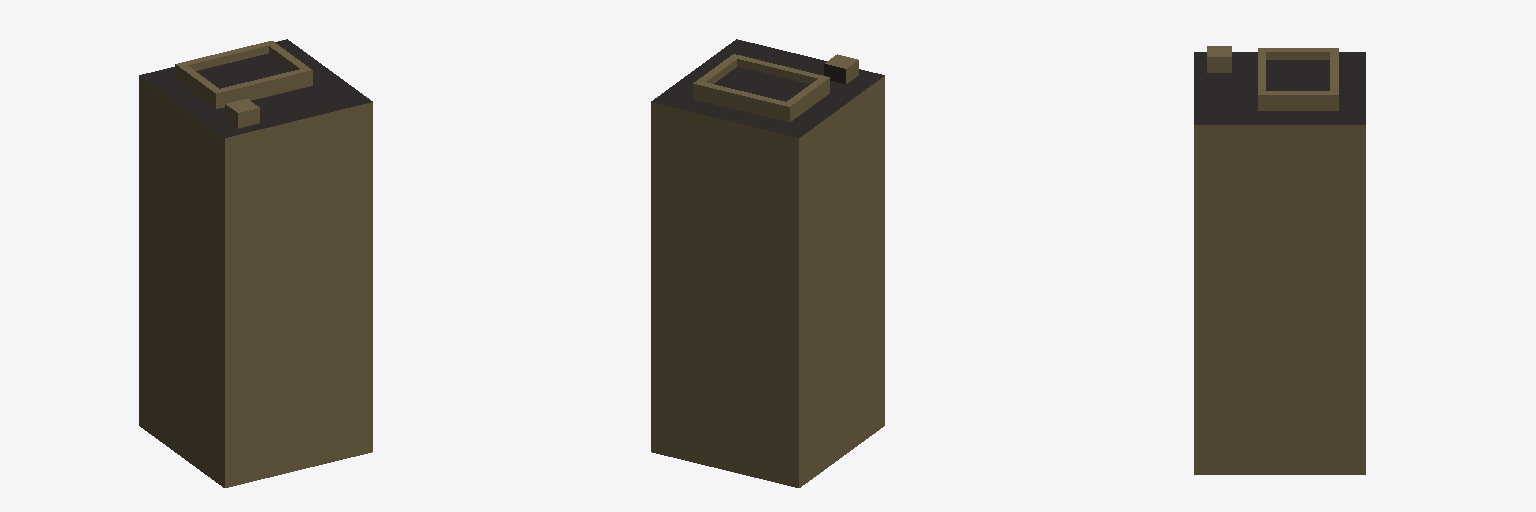
Rendered from highrise_4.obj.
The picture shows the model from 3 angles: view 1: azimuth 30°, elevation 25°; view 2: azimuth 150°, elevation 25°; view 3: azimuth 270°, elevation 25°; orthographic projection.
Visible parts, largest first — view 1: Mesh1 Model; view 2: Mesh1 Model; view 3: Mesh1 Model.
Part boxes in pixels (left/top/right/bottom): Mesh1 Model: left=139, top=39, right=372, bottom=487; Mesh1 Model: left=651, top=39, right=884, bottom=487; Mesh1 Model: left=1194, top=46, right=1365, bottom=474.
Size of the model in its own units: 20 by 47 by 20.